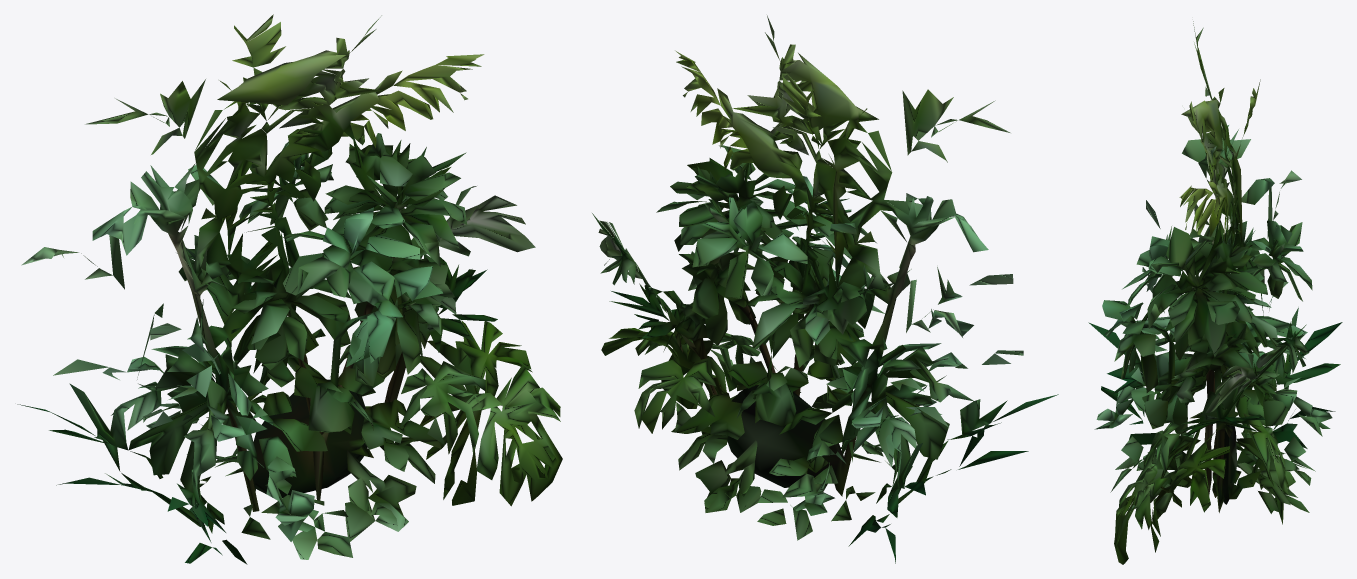
The model's file is tropical1.glb.
3 views of the same model, side by side, from view 1: azimuth 30°, elevation 25°; view 2: azimuth 150°, elevation 25°; view 3: azimuth 270°, elevation 25° (orthographic). The views are drawn at different scales.
Size of the model in its own units: 0.9012 by 0.9541 by 0.5125.
